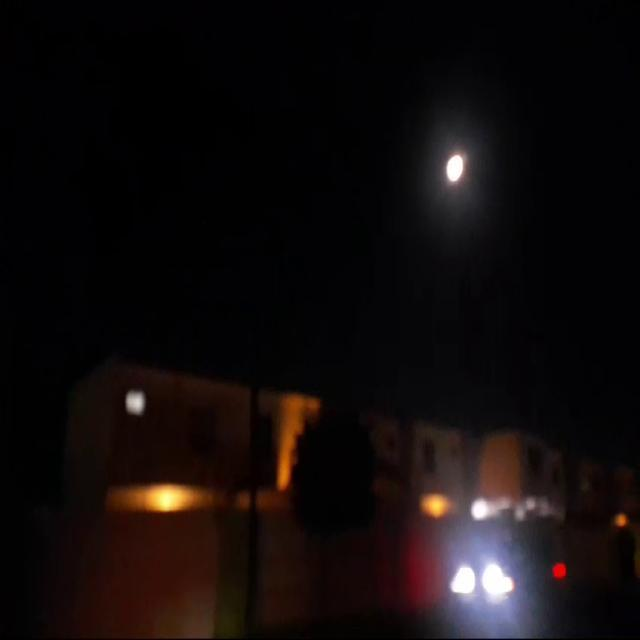moon: (444, 151, 464, 185)
